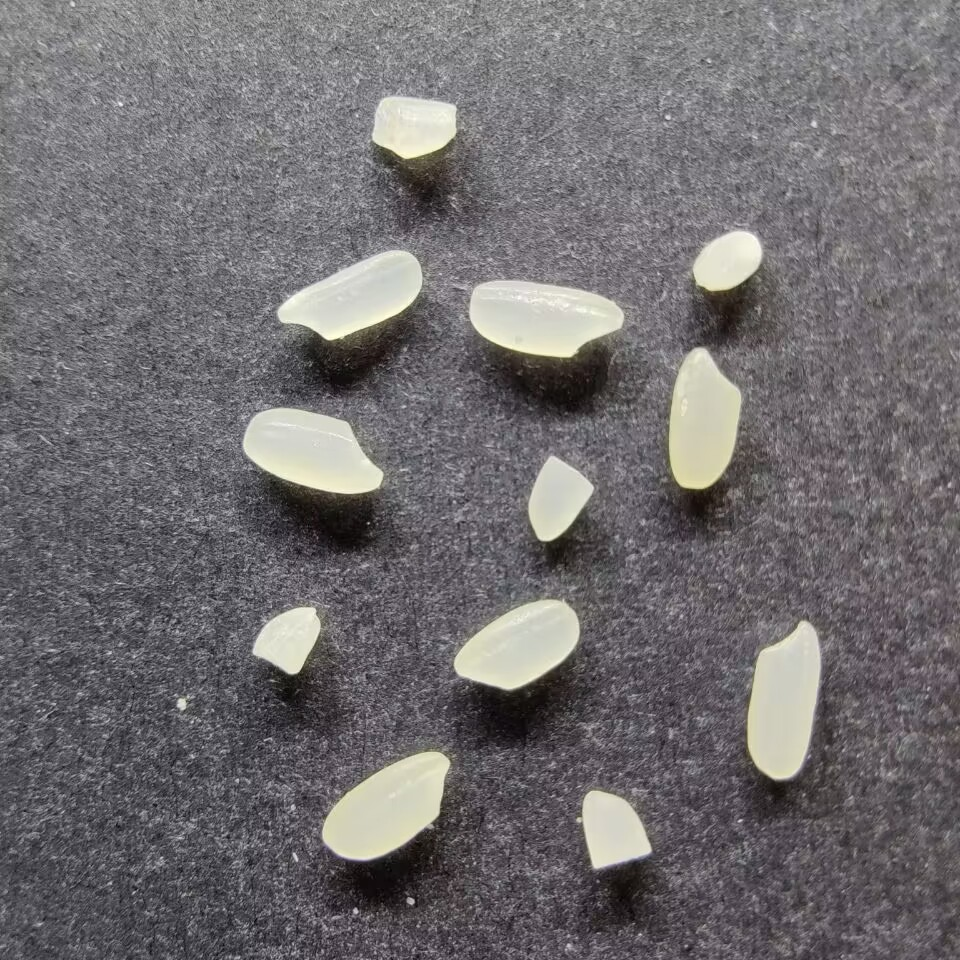broken: (526, 455, 594, 542), (581, 789, 652, 868), (372, 95, 458, 159), (250, 606, 322, 675), (691, 228, 764, 292)
rice: (320, 750, 449, 860), (275, 248, 421, 340), (242, 407, 383, 495), (745, 619, 822, 780), (468, 279, 623, 357), (453, 599, 579, 690), (667, 346, 741, 489)
